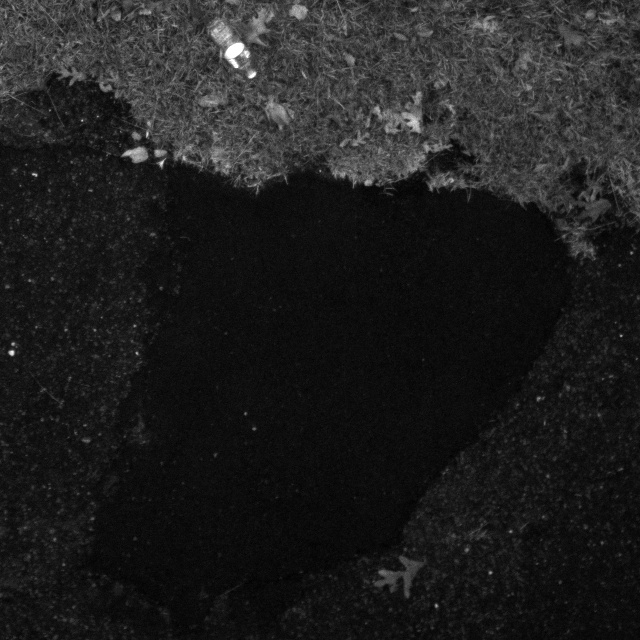bottle: (198, 14, 262, 88)
